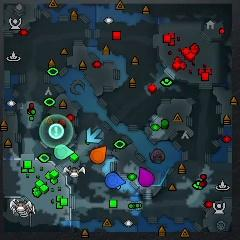Other: (48, 124, 64, 139)
p1: (105, 172, 126, 188)
p2: (54, 144, 74, 160)
p3: (138, 167, 155, 187)
p5: (90, 146, 107, 164)
x3: (87, 127, 102, 143)
